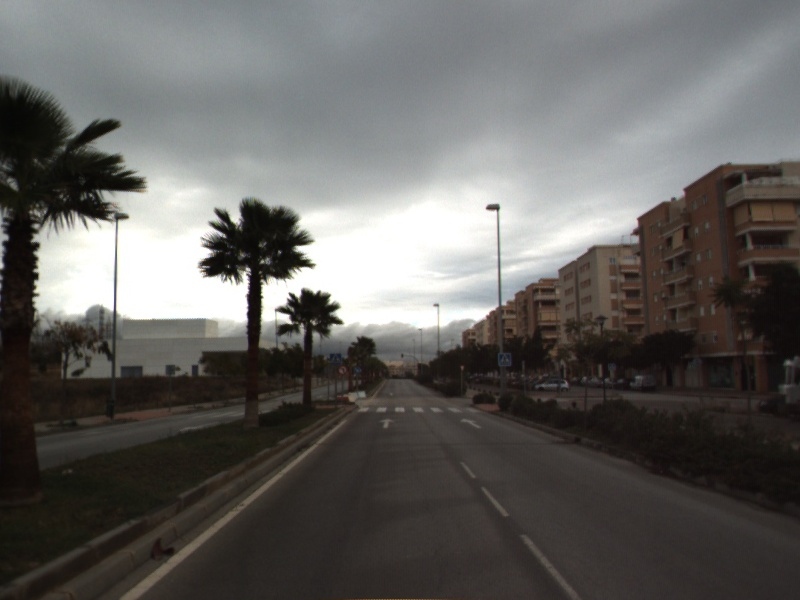STRAIGHT: (458, 416, 484, 431), (377, 416, 397, 430)
